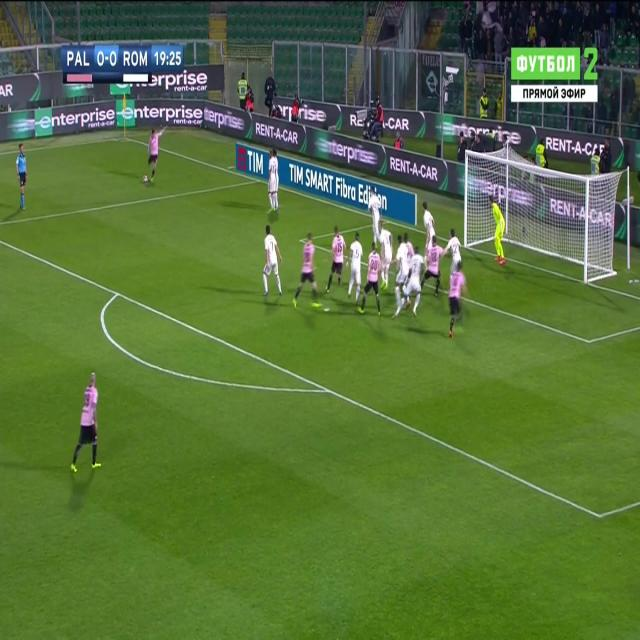Ball: (141, 170, 149, 188)
Goalkeeper: (488, 195, 509, 270)
Player: (70, 368, 104, 479), (290, 230, 322, 311), (261, 224, 284, 301), (360, 242, 383, 317), (447, 262, 466, 343), (392, 234, 410, 319), (404, 247, 424, 318), (326, 227, 347, 294), (346, 229, 364, 307), (377, 219, 395, 293), (423, 234, 443, 299), (148, 125, 166, 186), (366, 187, 382, 247), (266, 151, 279, 217), (444, 226, 461, 267), (421, 199, 435, 246)
Referee: (14, 140, 31, 215)
